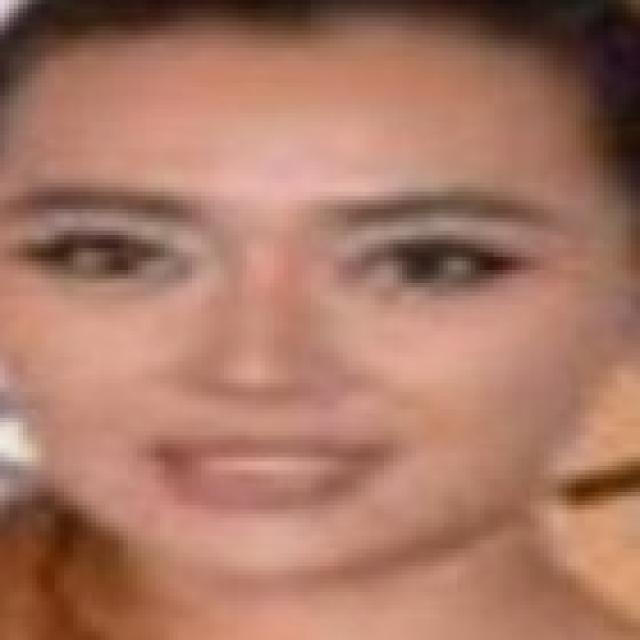no_mask: (45, 28, 602, 612)
